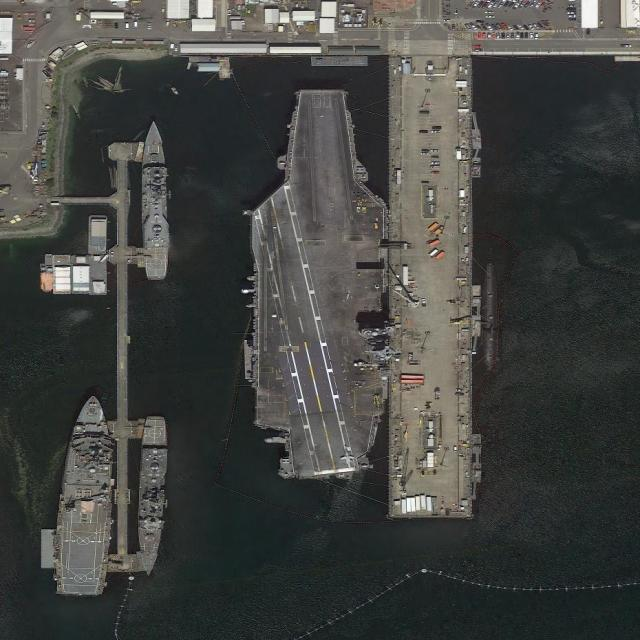Aircraft Carrier: (248, 89, 390, 478)
Dock: (388, 53, 474, 520), (108, 142, 142, 571)
Frigate: (136, 415, 169, 576), (142, 122, 167, 279)
Landing: (56, 394, 116, 597)
Other Ship: (171, 87, 179, 96)
Submarine: (484, 241, 498, 372)
